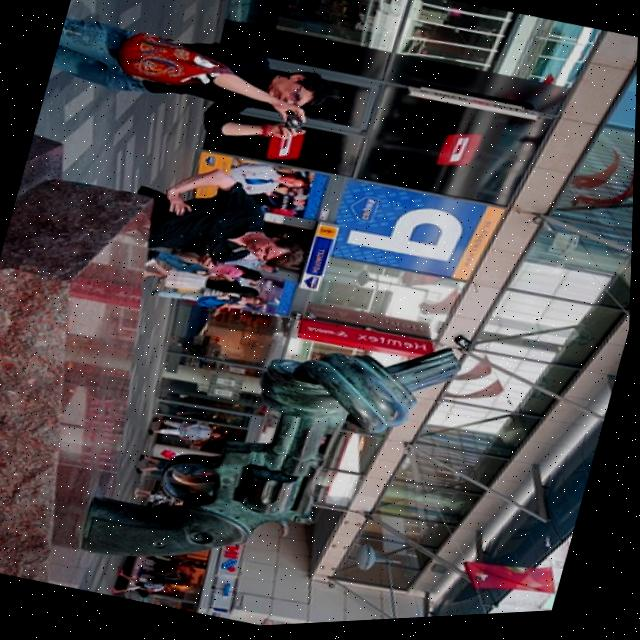pistol: (75, 275, 469, 630)
